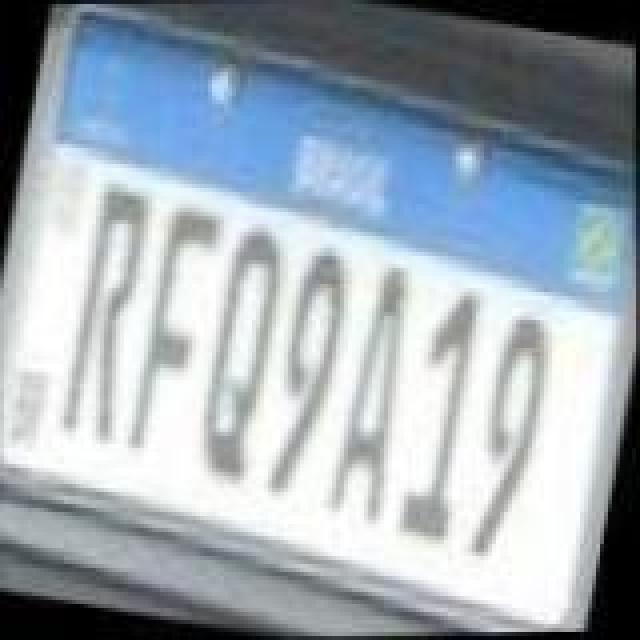1: (392, 280, 496, 544)
9: (258, 244, 362, 504), (460, 314, 564, 570)
A: (322, 260, 430, 528)
F: (124, 200, 224, 456)
Q: (188, 218, 296, 486)
R: (58, 184, 162, 448)
